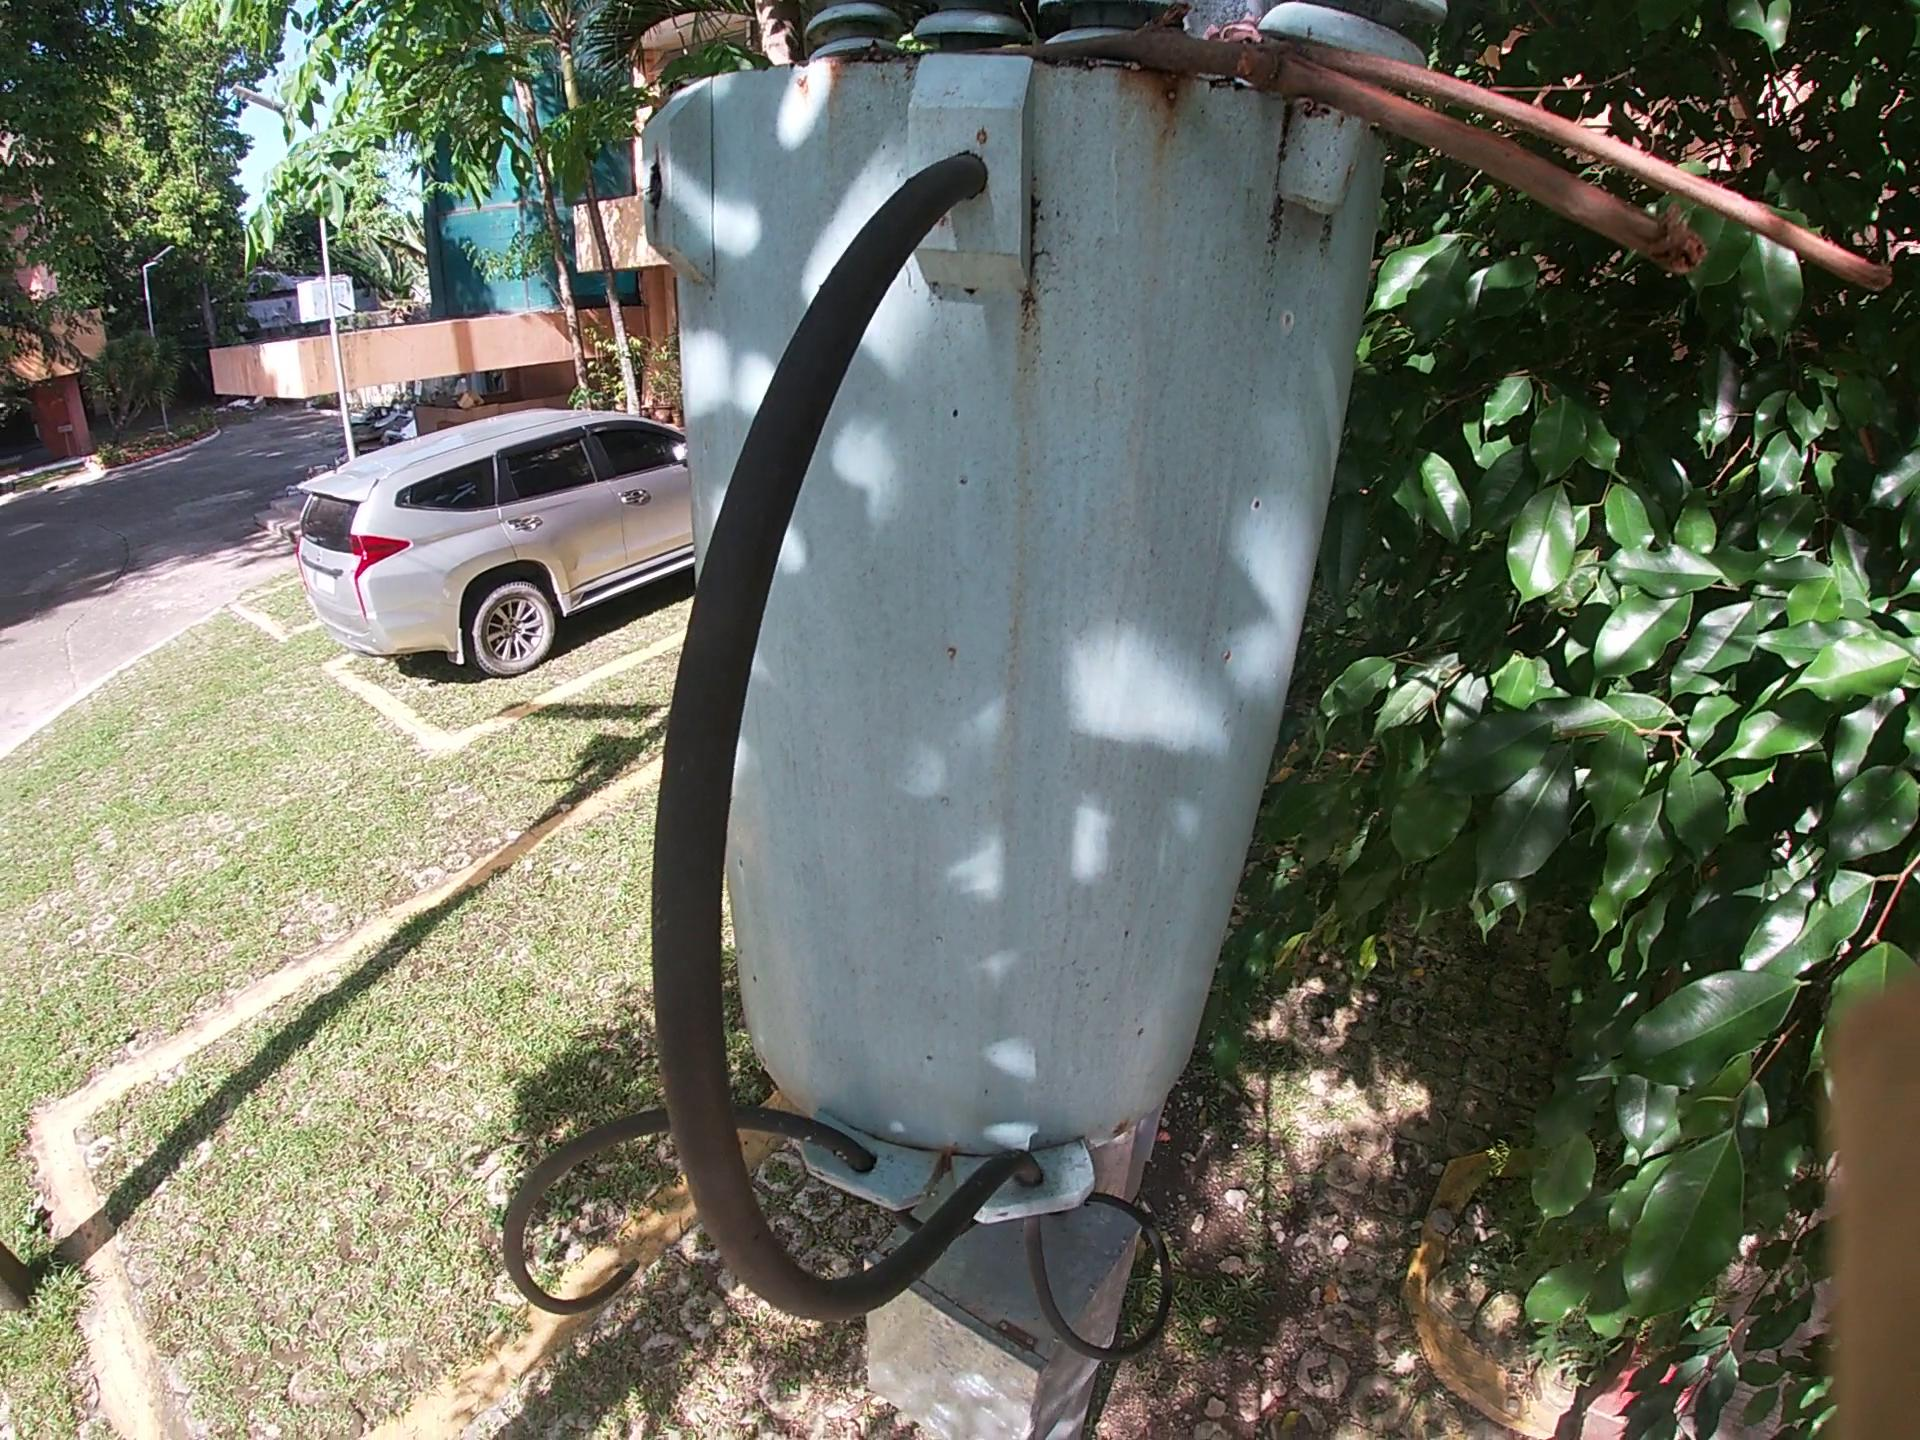tree branch: (949, 35, 1896, 306)
